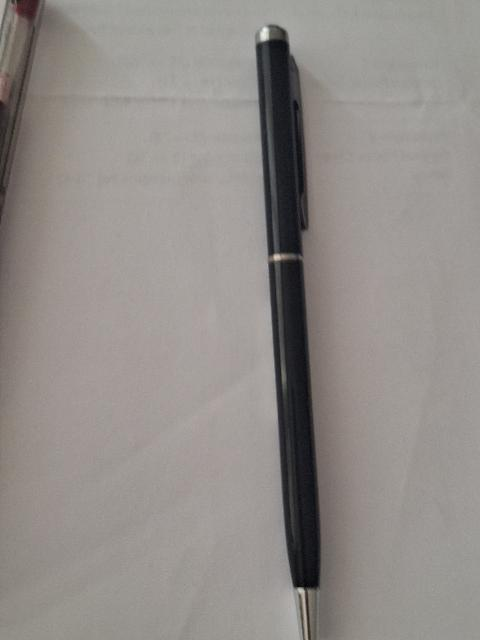writing_tool: (255, 28, 327, 640)
